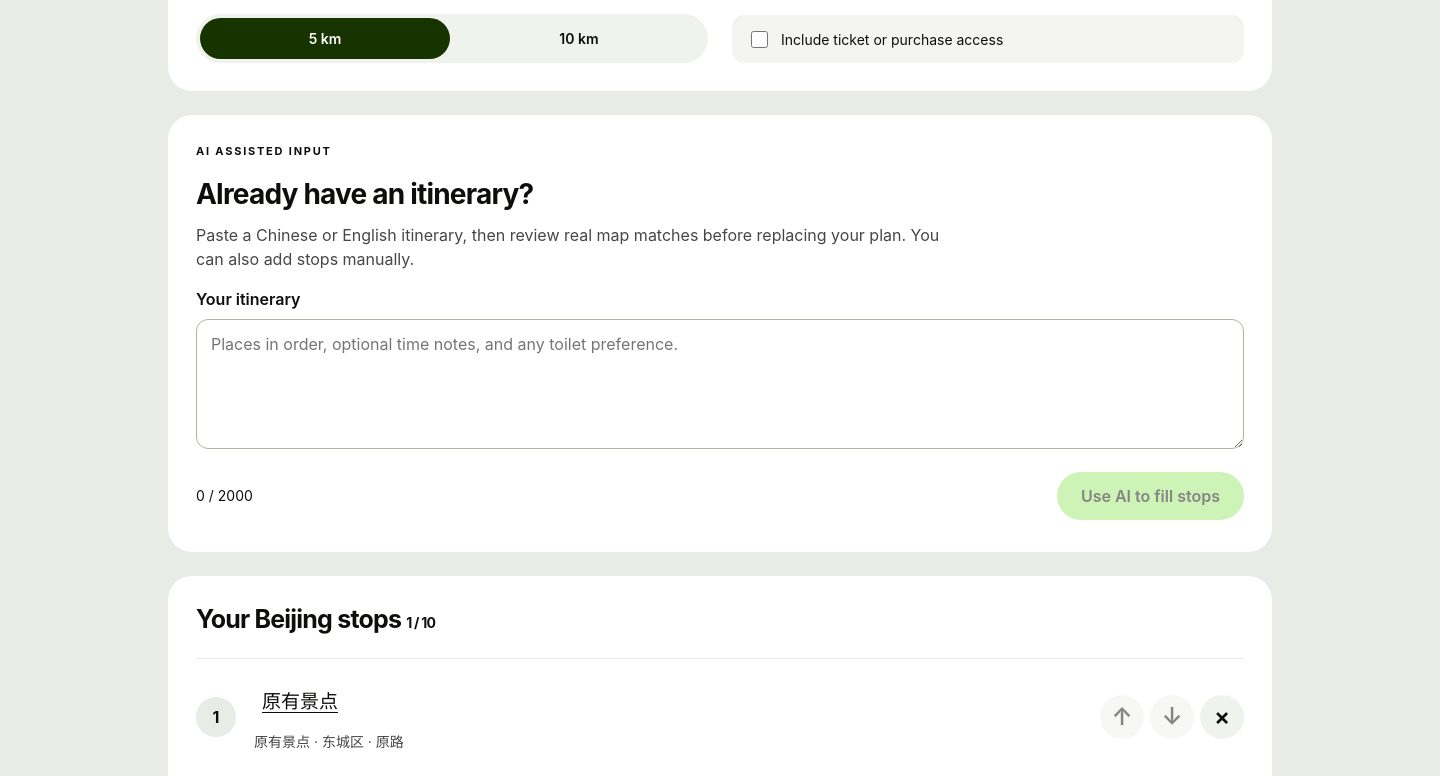
Test: AI draft selects actual map places and leaves the original plan untouched until confirmation
(page scrolled)
Type "Morning garden, then art gallery." into the text box labelled "Your itinerary" at (720, 384), box [196,319,1244,449]
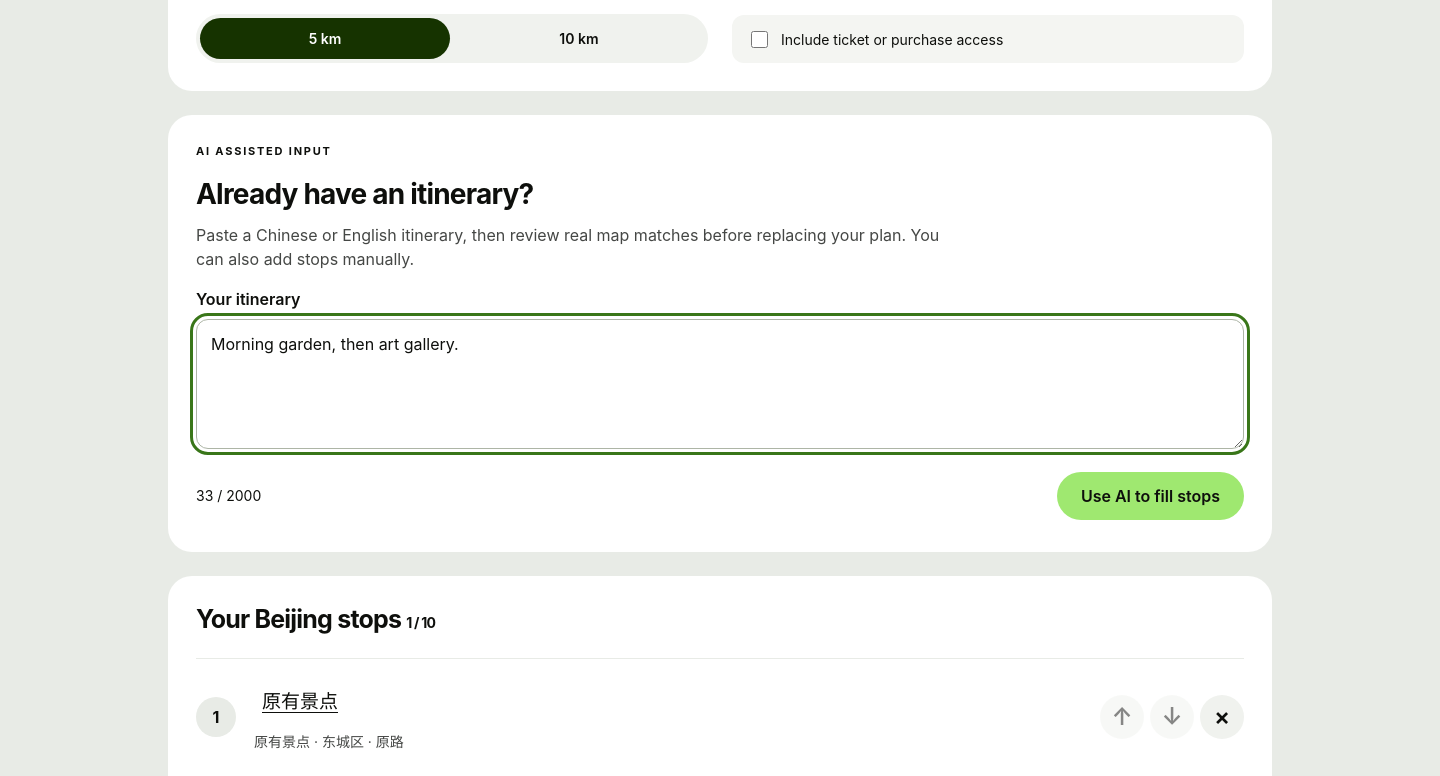
Click the button "Use AI to fill stops" at (1150, 496), box [1057,472,1244,520]
(page scrolled)
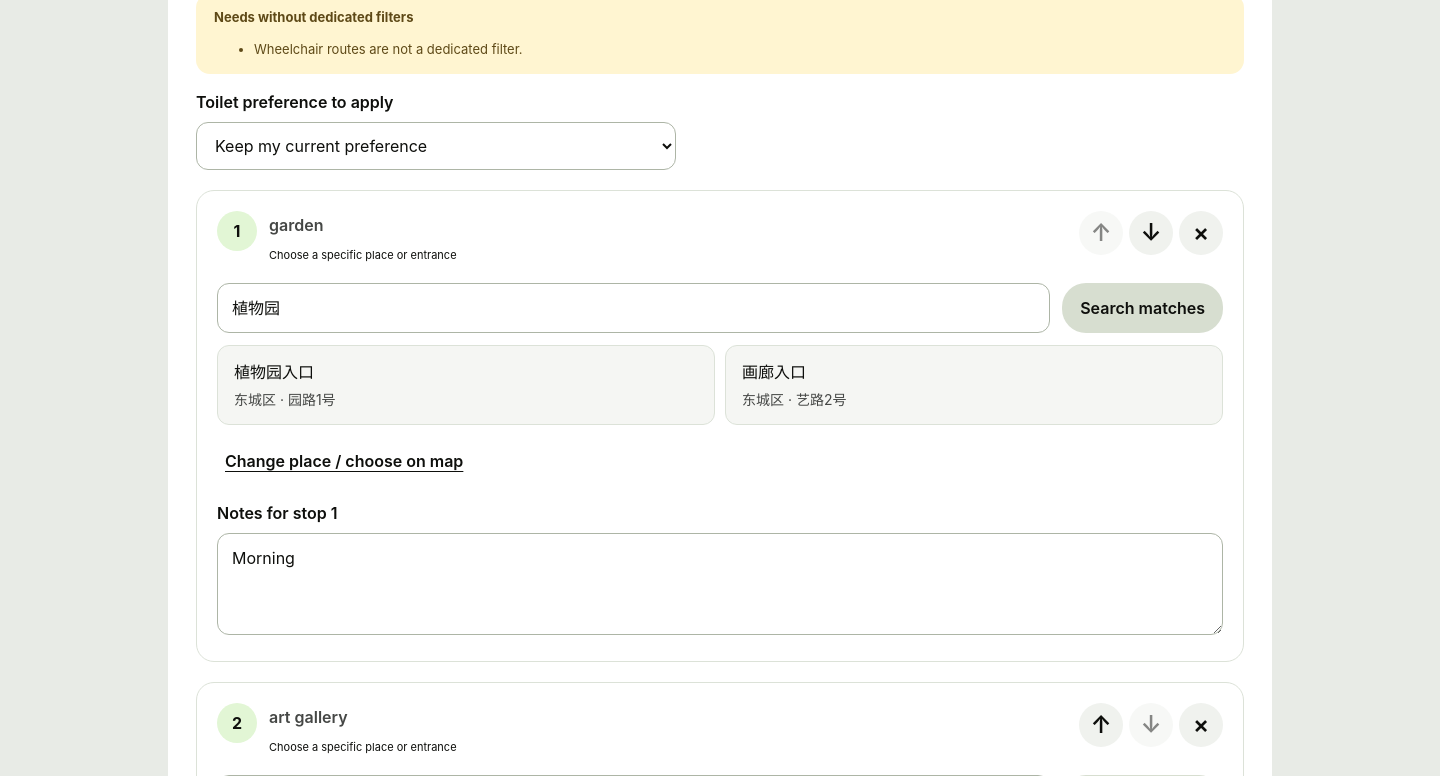
Click the button with aria-label "Use 植物园入口" at (274, 372), box [217,344,715,424]
(page scrolled)
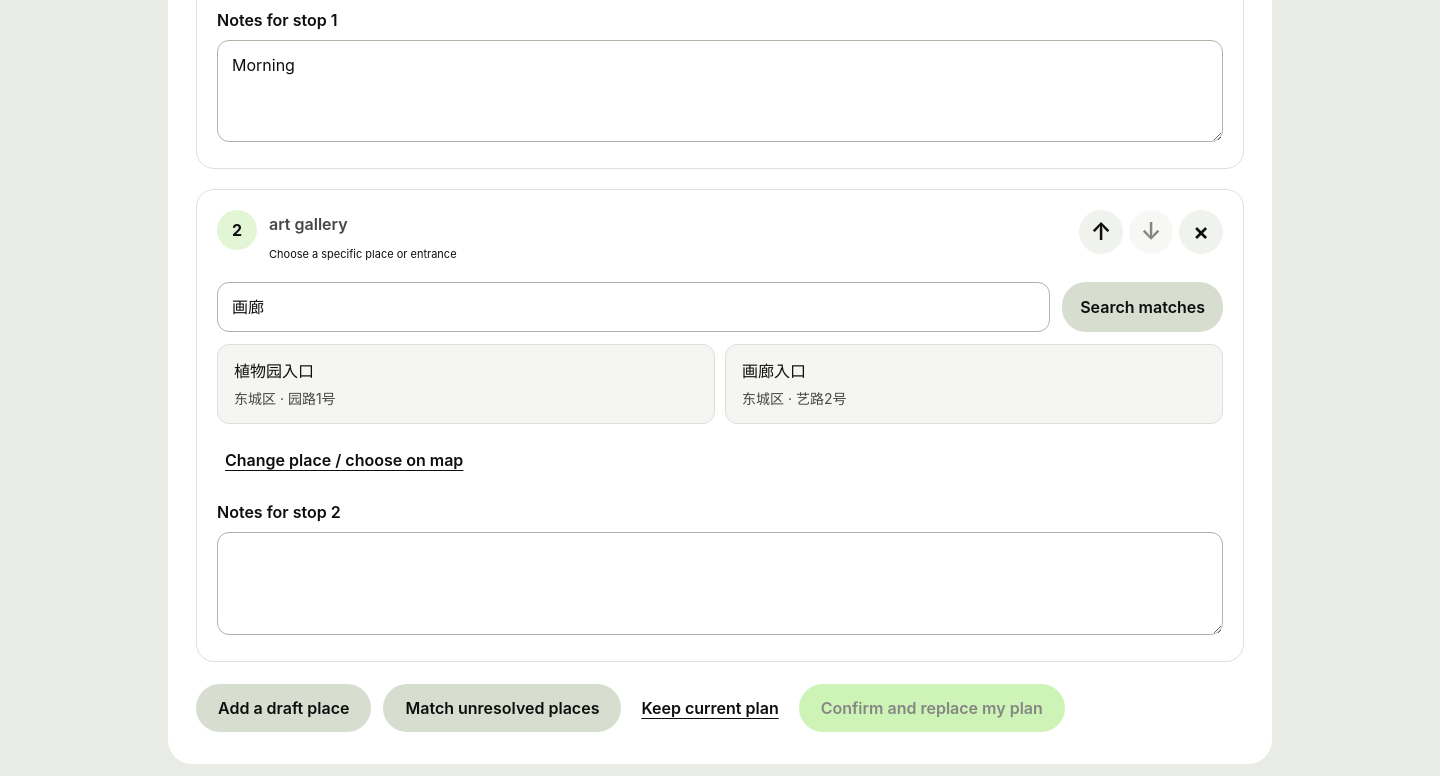
Click the button with aria-label "Use 画廊入口" at (774, 371), box [725,344,1223,424]
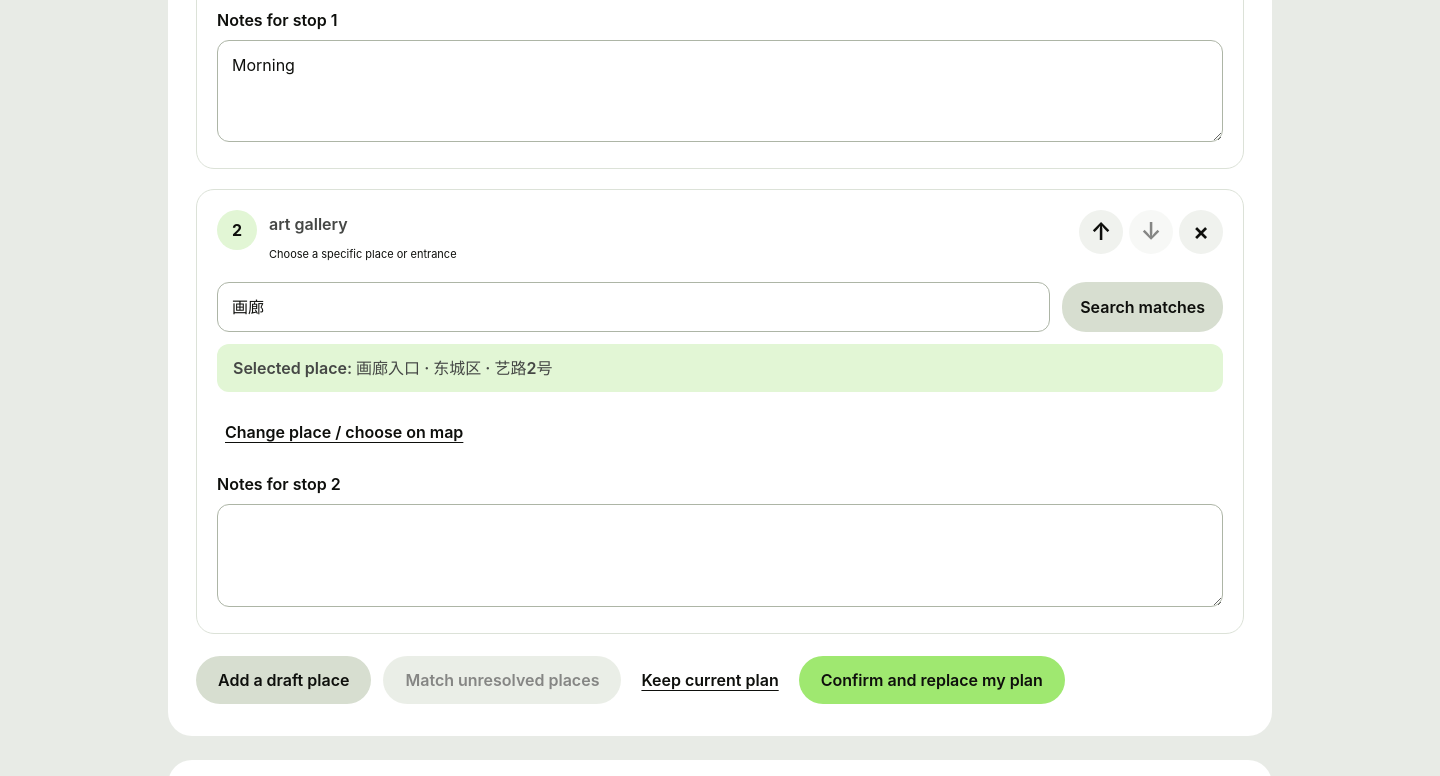
Click the button "Confirm and replace my plan" at (932, 680), box [799,656,1065,704]
(page scrolled)
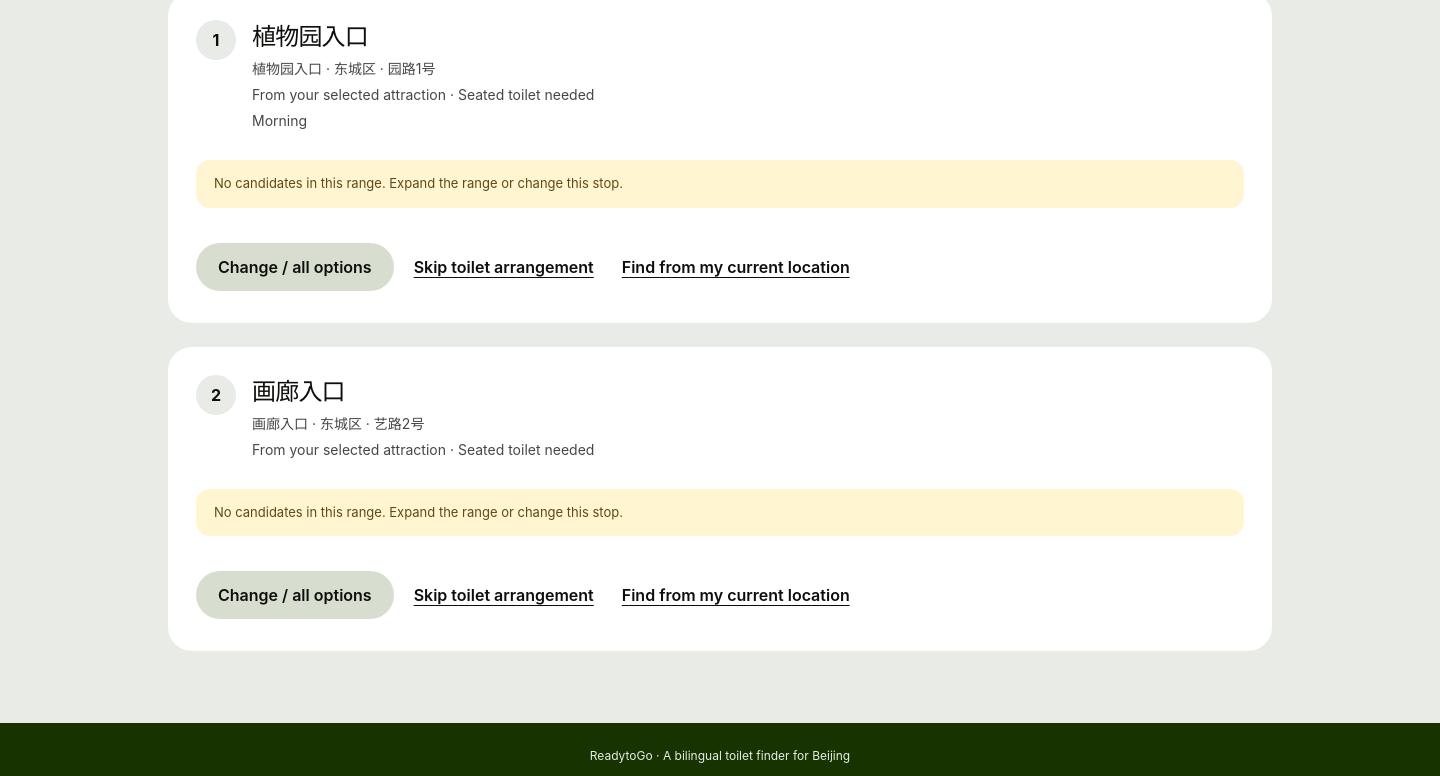
Now the text "Morning" is shown, box [252,112,307,129]
